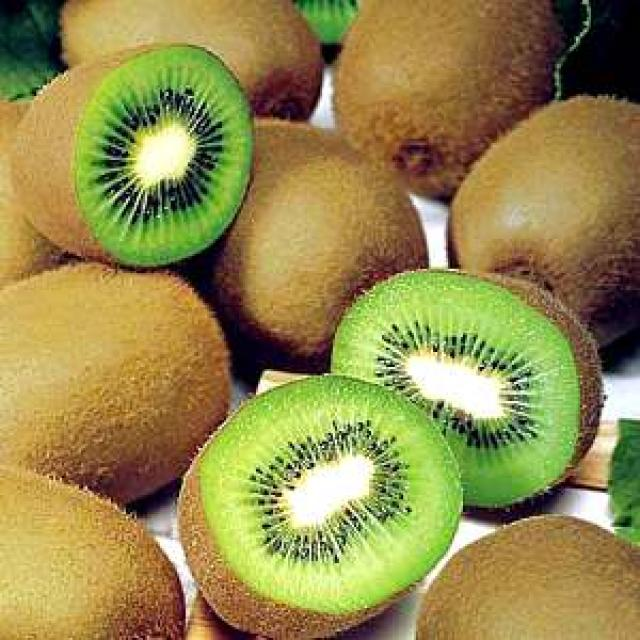Chilli Pepper: (322, 260, 613, 514), (180, 372, 462, 628), (194, 70, 437, 356), (0, 238, 251, 489), (9, 39, 261, 276), (437, 71, 640, 341), (347, 0, 558, 210)
